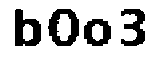0: (45, 4, 81, 51)
3: (116, 7, 149, 52)
b: (10, 8, 47, 54)
o: (82, 16, 114, 51)
